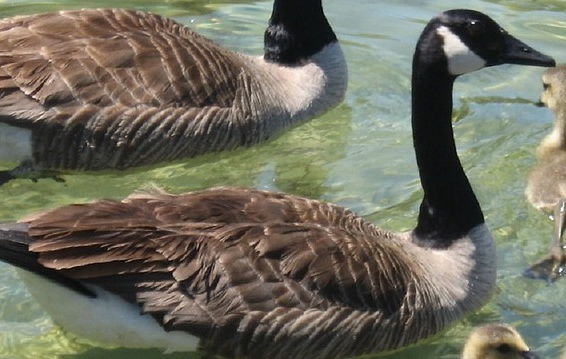goose: (4, 6, 557, 359)
